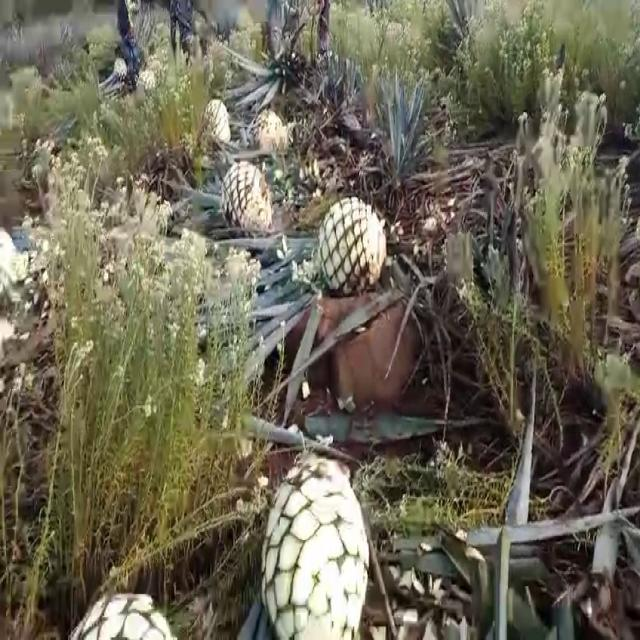agave: (260, 449, 370, 640), (313, 194, 387, 297), (221, 156, 271, 236), (248, 106, 282, 161)
